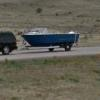Boat: (18, 22, 84, 52)
